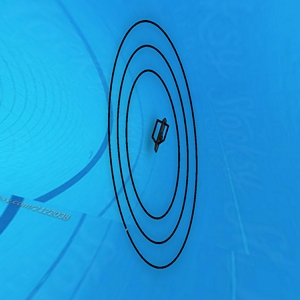circle: (108, 15, 195, 266)
submarine: (149, 114, 169, 152)
